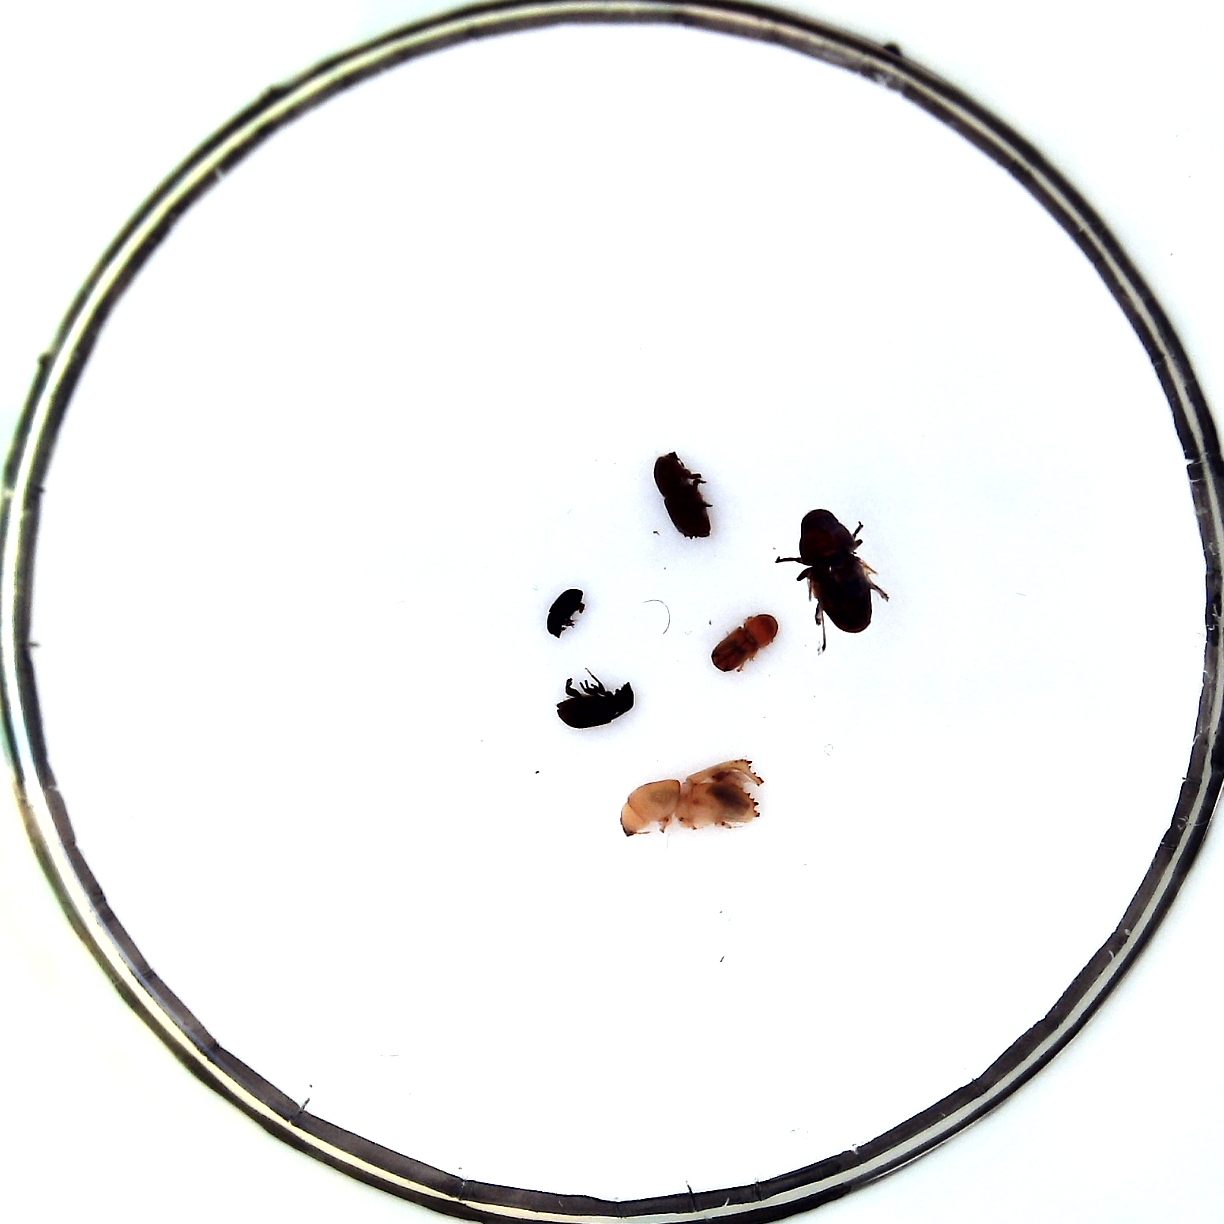Boerner: (619, 760, 764, 834)
Leconte: (799, 509, 872, 633)
acuminatus: (546, 587, 585, 638)
armandi: (556, 667, 634, 727)
linnaeus: (653, 452, 712, 543), (711, 614, 778, 671)
